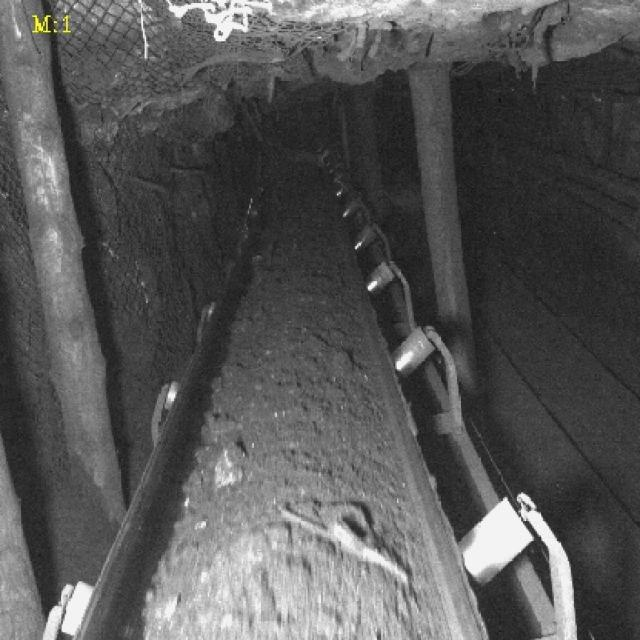bolt: (283, 494, 414, 581)
large_sized_coal: (206, 523, 288, 595), (214, 446, 254, 491)
